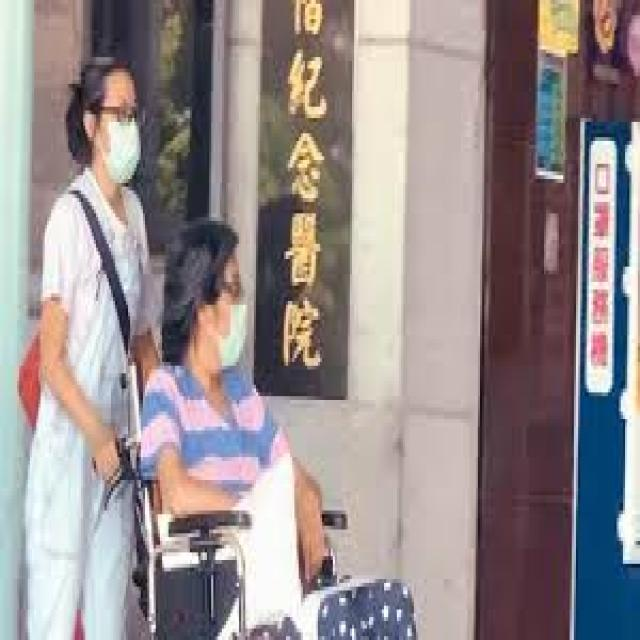wheelchairs: (98, 358, 414, 636)
